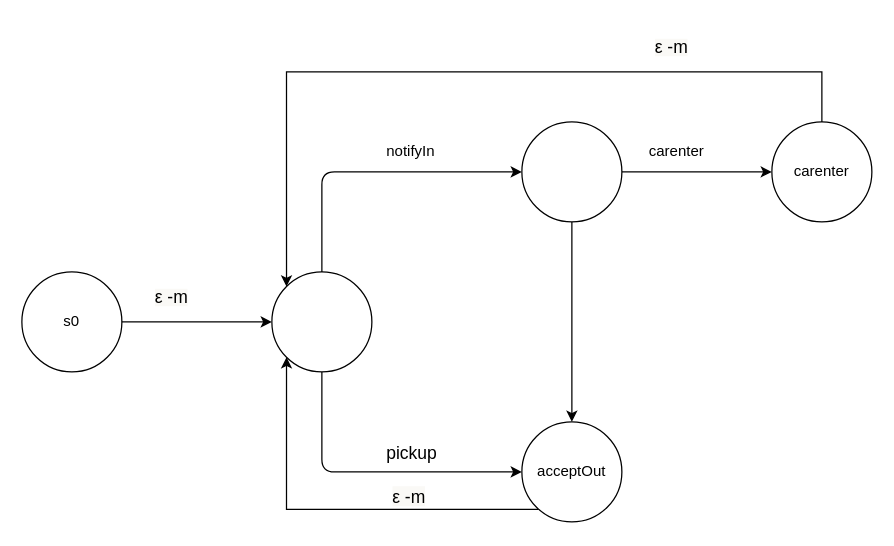
This 894x546 diagram has some shape labels left out. The shapes that lost their labels are listed below. From the top down, each one's centre as x and y in pixels, then its label:
At pixel 571 171: "acceptIn".
At pixel 321 321: "working".
